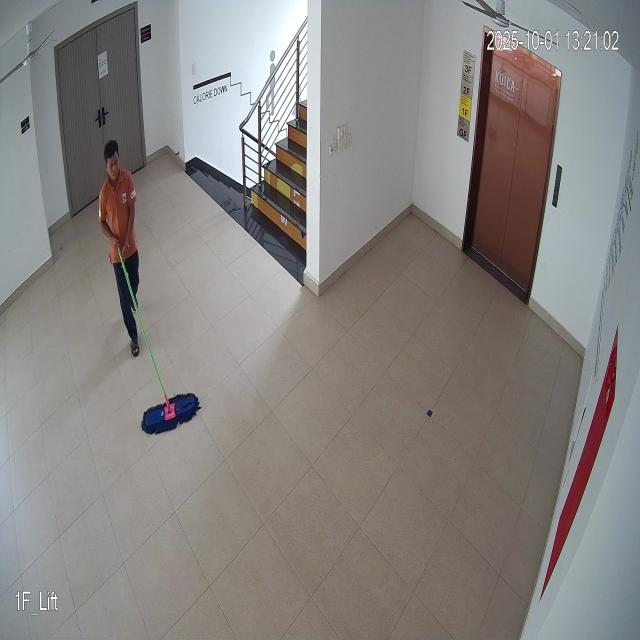face: (99, 136, 128, 190)
